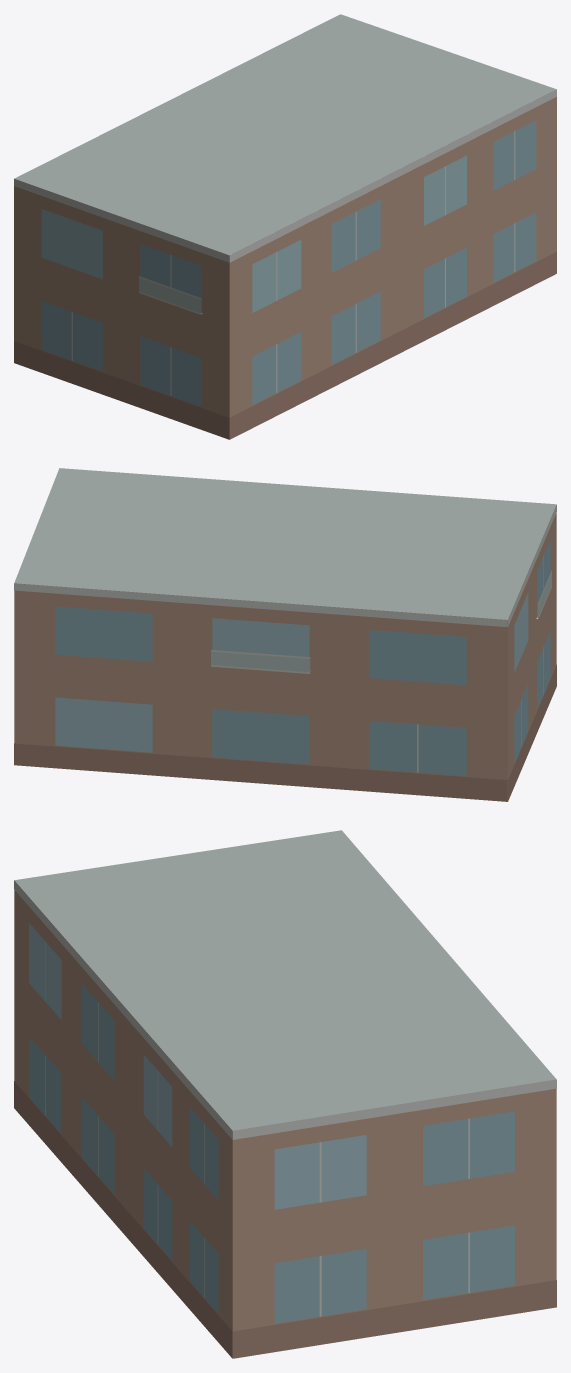
The model's file is survey-upis-32702940.glb.
The picture shows the model from 3 angles, top to bottom: view 1: azimuth 30°, elevation 25°; view 2: azimuth 150°, elevation 25°; view 3: azimuth 270°, elevation 25°; orthographic projection. The views are drawn at different scales.
Parts seen in each view (by area): view 1: survey-upis-32702940.tmp; view 2: survey-upis-32702940.tmp; view 3: survey-upis-32702940.tmp.
Boxes of the visible parts, x1,y1,x2,y2 form: survey-upis-32702940.tmp: [14, 14, 556, 439]; survey-upis-32702940.tmp: [14, 468, 556, 801]; survey-upis-32702940.tmp: [14, 830, 556, 1358].
Size of the model in its own units: 17.28 by 6.1 by 13.18.
